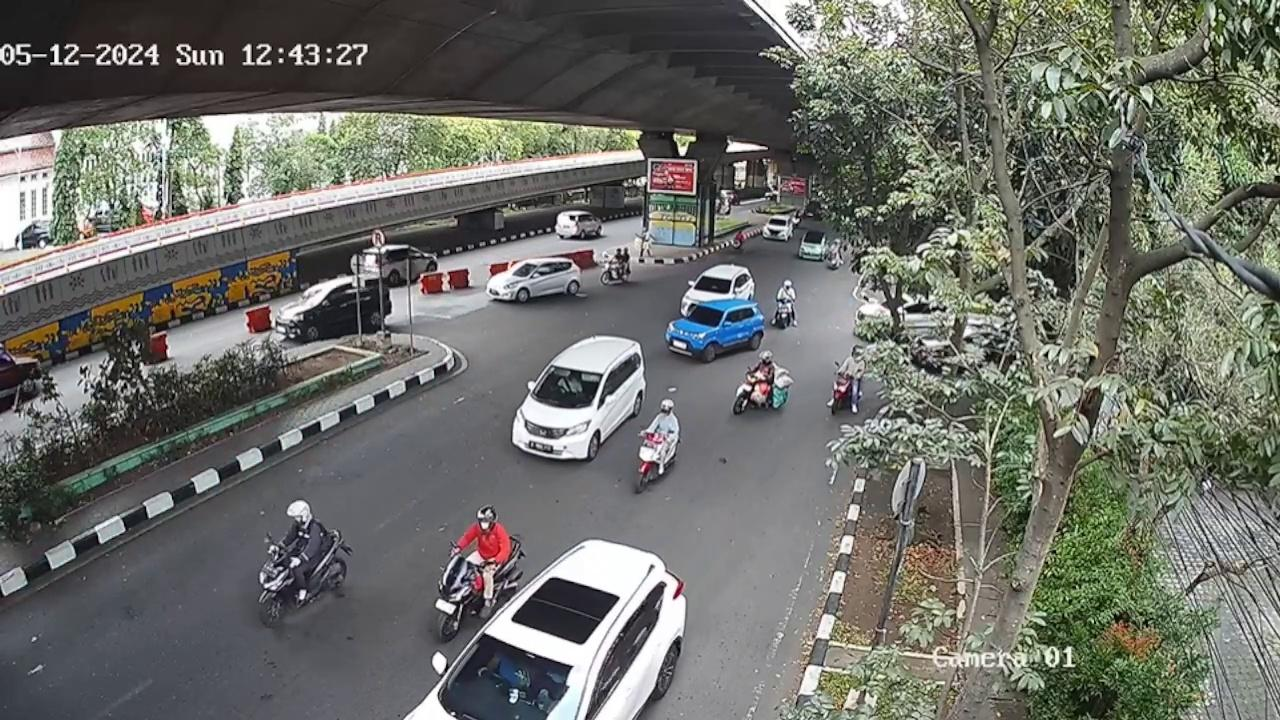pakai: (559, 375, 585, 398)
tidak-pakai: (484, 649, 529, 695)
windshield: (451, 631, 589, 720), (529, 365, 605, 407)
